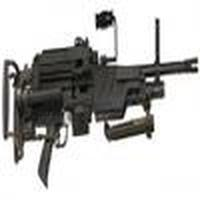gun: (2, 44, 195, 149)
